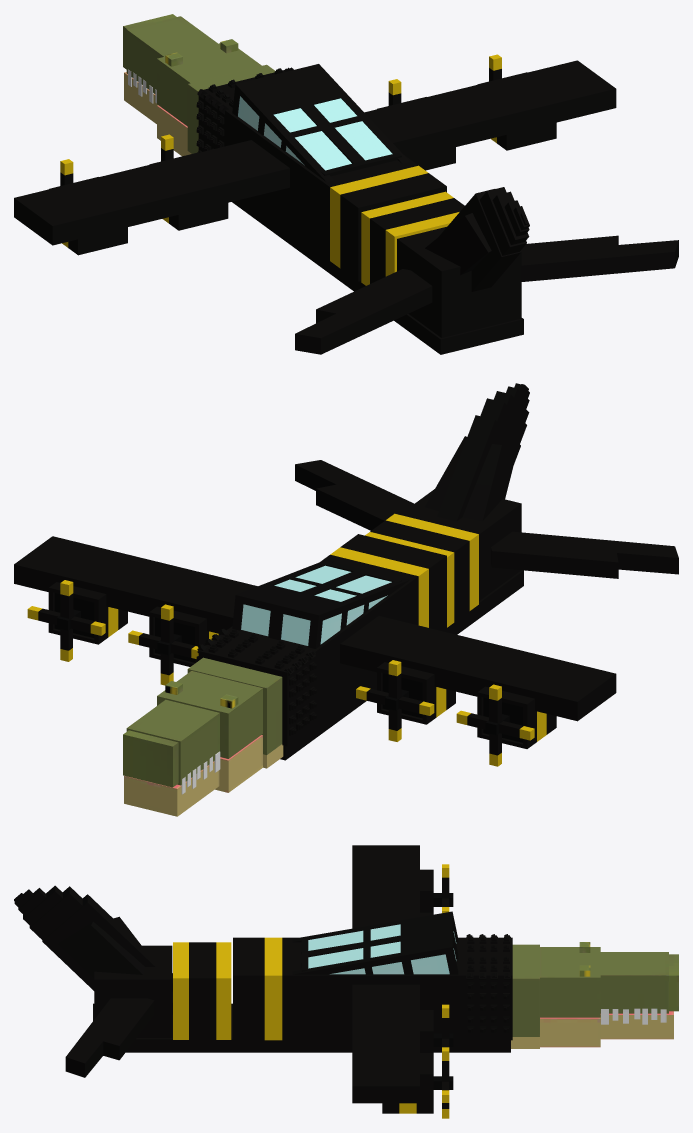
3 views of the same model, one above another, from view 1: azimuth 30°, elevation 25°; view 2: azimuth 150°, elevation 25°; view 3: azimuth 270°, elevation 25° (orthographic). The views are drawn at different scales.
Visible parts, largest first — view 1: Borbardillo1, Borbardillo0011, Borbardillo0031; view 2: Borbardillo1, Borbardillo0011, Borbardillo0031, Borbardillo0021; view 3: Borbardillo1, Borbardillo0011, Borbardillo0031, Borbardillo0021.
Part boxes in pixels (bbox=[...]): Borbardillo1: bbox=[14, 60, 678, 354]; Borbardillo0011: bbox=[123, 14, 392, 170]; Borbardillo0031: bbox=[60, 54, 501, 285]; Borbardillo1: bbox=[14, 383, 678, 760]; Borbardillo0011: bbox=[123, 565, 391, 816]; Borbardillo0031: bbox=[27, 513, 546, 766]; Borbardillo0021: bbox=[54, 593, 522, 742]; Borbardillo1: bbox=[14, 845, 512, 1113]; Borbardillo0011: bbox=[308, 924, 678, 1048]; Borbardillo0031: bbox=[173, 864, 449, 1118]; Borbardillo0021: bbox=[433, 893, 453, 1089].
Size of the model in its own units: 10.39 by 2.95 by 12.12.
